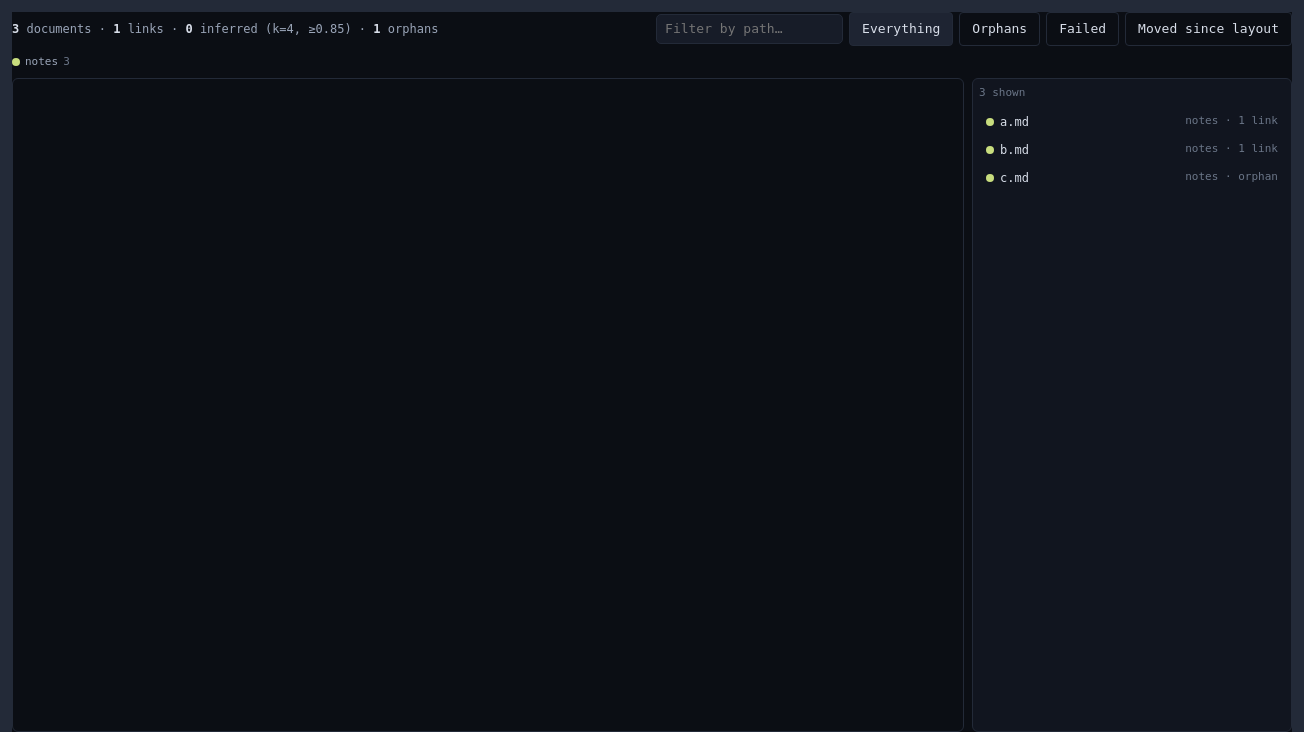
Test: KnowledgeGraph › the path filter narrows the list
This screenshot has width=1304, height=732.
Type "b.md" into the search field named "Filter documents by path" at (750, 29), box x1=656 y1=14 x2=843 y2=44
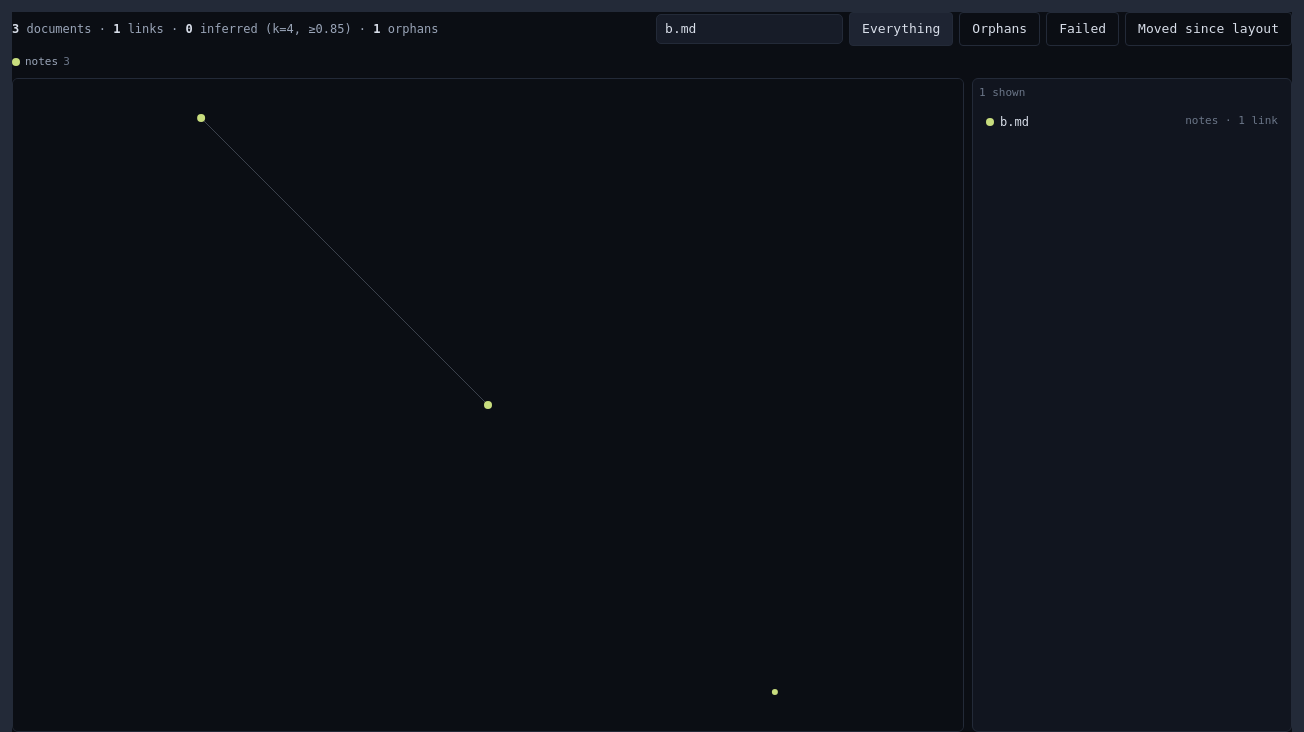
Expected: the button titled "b.md" is shown, x1=979 y1=108 x2=1285 y2=136
Now the button titled "a.md" is gone
